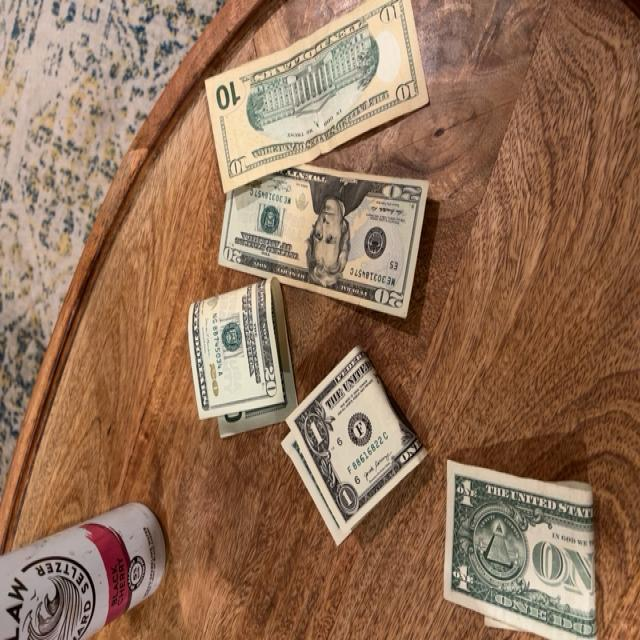one: (282, 345, 430, 547), (443, 459, 599, 640)
ten: (204, 0, 429, 192)
twenty: (218, 163, 429, 319), (188, 277, 299, 438)
